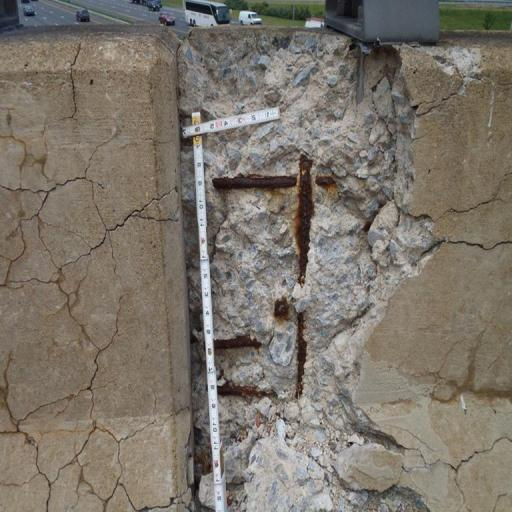spalling: (177, 41, 437, 512)
